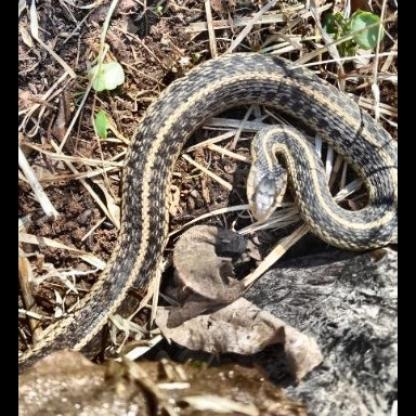Snake: (18, 49, 398, 299)
